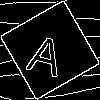A: (25, 25, 70, 78)
